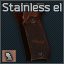P226 Elite Wooden pistol grip: (0, 0, 64, 64)
